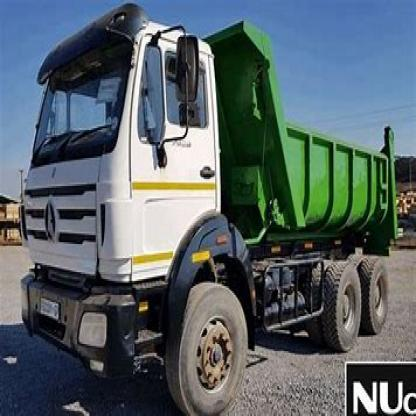dump_truck: (24, 18, 413, 414)
